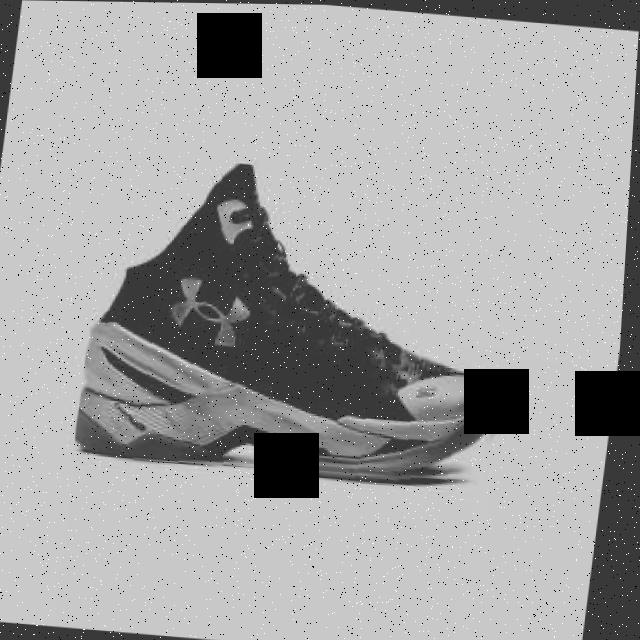shoe: (76, 152, 536, 490)
